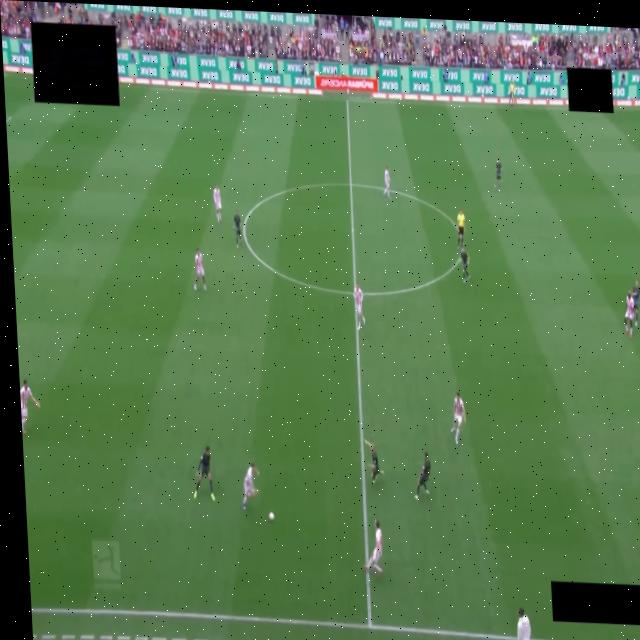ball: (268, 513, 273, 522)
player: (193, 446, 214, 500), (364, 520, 382, 577), (20, 380, 39, 433), (364, 440, 382, 484), (242, 463, 258, 510), (450, 393, 465, 443), (415, 452, 430, 499), (353, 283, 364, 329), (193, 248, 205, 290), (624, 291, 634, 337), (632, 280, 639, 327), (460, 248, 469, 283), (213, 185, 221, 223), (233, 210, 240, 249), (493, 158, 501, 191), (383, 166, 390, 198)
referee: (456, 211, 465, 249)
